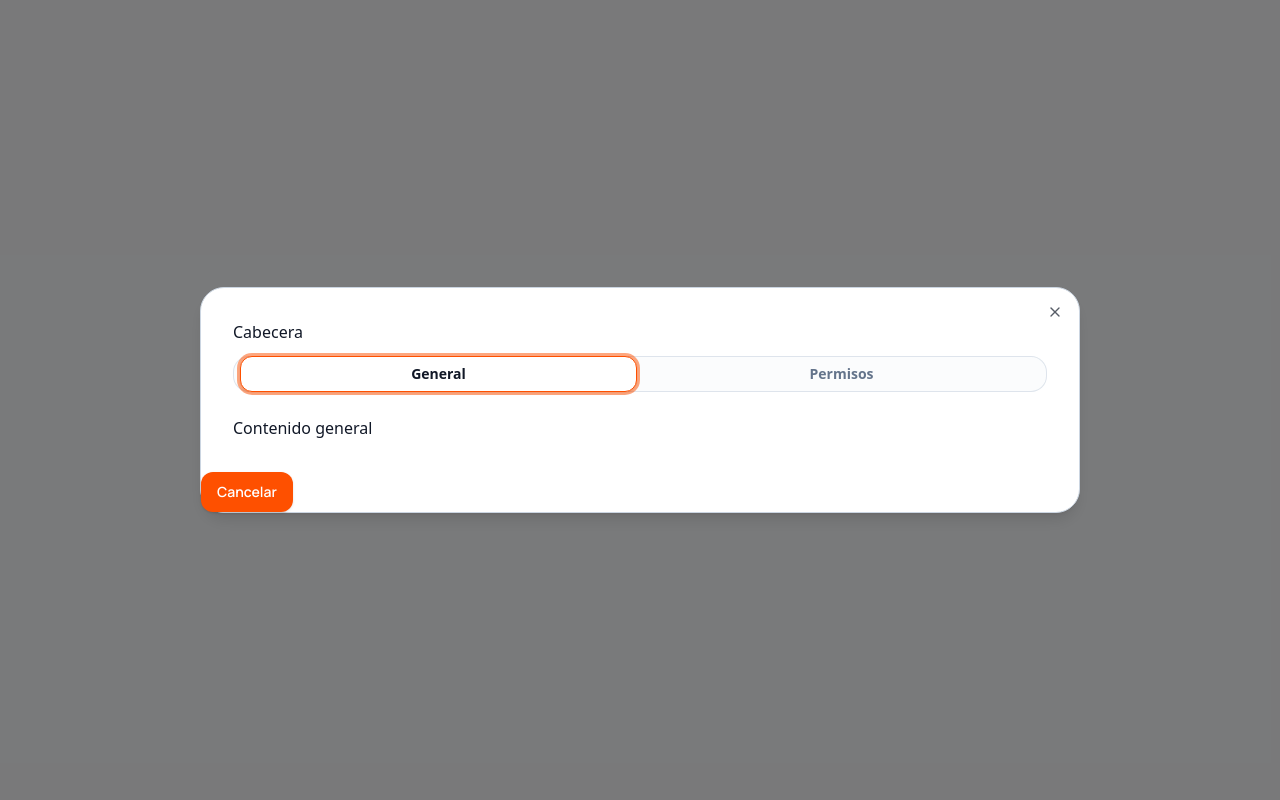
it: AdminDetailsDialogShell UI › renders tabs when multiple sections exist
The width and height of the screenshot is (1280, 800).
Expected: the tab "General" is shown, [240,356,637,392]
Click the tab "Permisos" at (842, 374), box [643,356,1040,392]
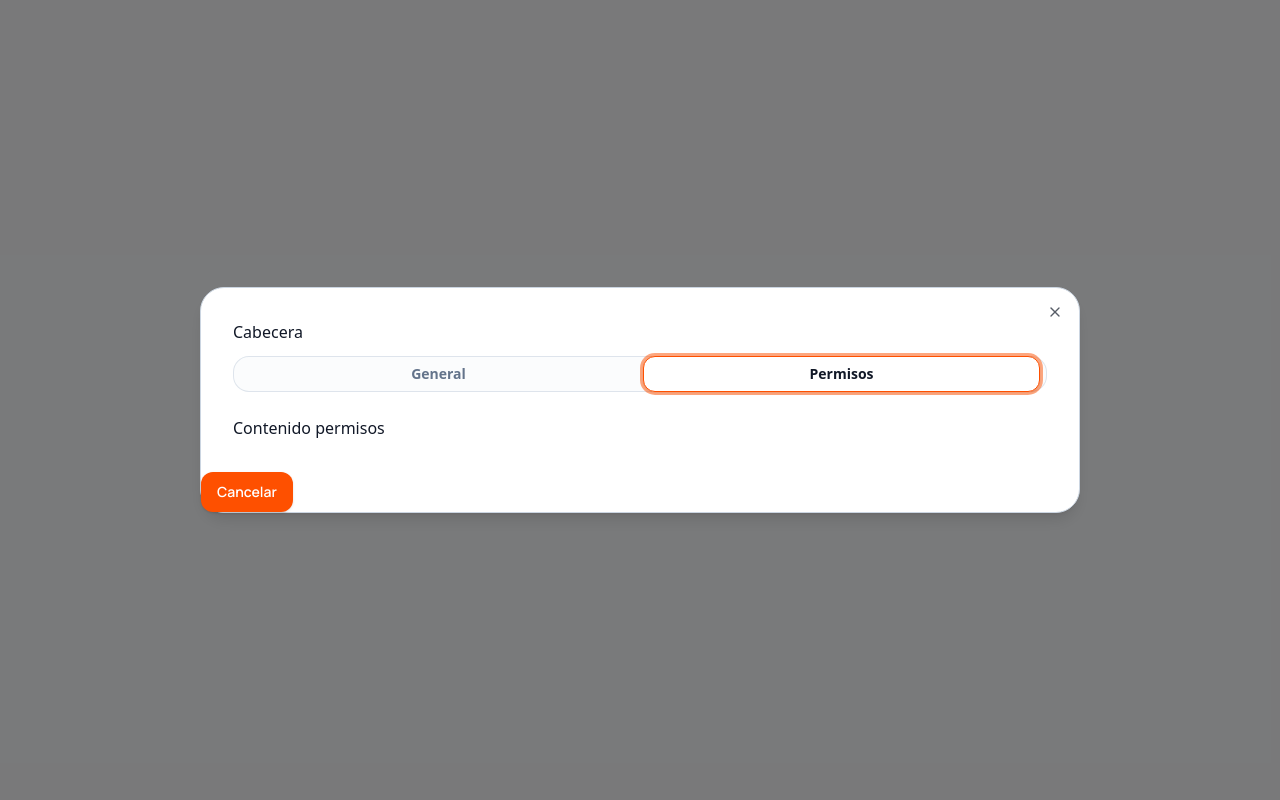
Now the text "Contenido permisos" is shown, box [233,417,385,439]
